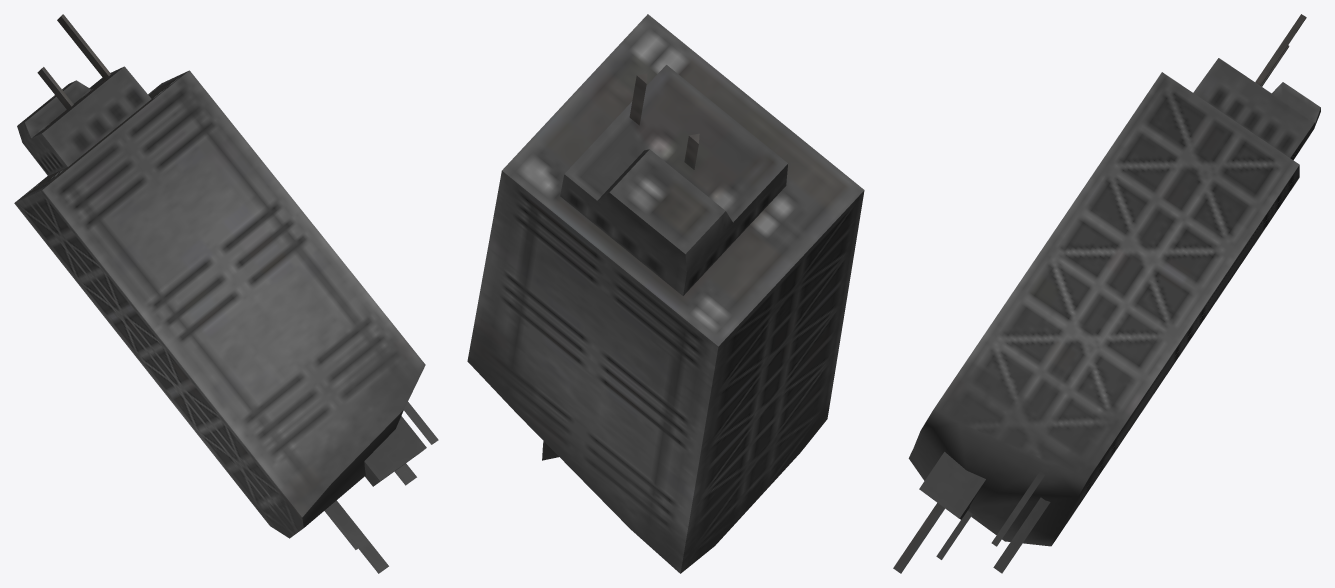
The model's file is skyBuildingAAA_pos_grp (6).fbx.
3 renders of one model, left to right at view 1: azimuth 30°, elevation 25°; view 2: azimuth 150°, elevation 25°; view 3: azimuth 270°, elevation 25°, orthographic. The views are drawn at different scales.
Visible parts, largest first — view 1: skyBuildingAAA_geo; view 2: skyBuildingAAA_geo; view 3: skyBuildingAAA_geo.
Part boxes in pixels (bbox=[...]): skyBuildingAAA_geo: bbox=[14, 14, 438, 573]; skyBuildingAAA_geo: bbox=[467, 14, 864, 573]; skyBuildingAAA_geo: bbox=[893, 14, 1320, 573].
Size of the model in its own units: 5.86 by 7.98 by 6.34.
